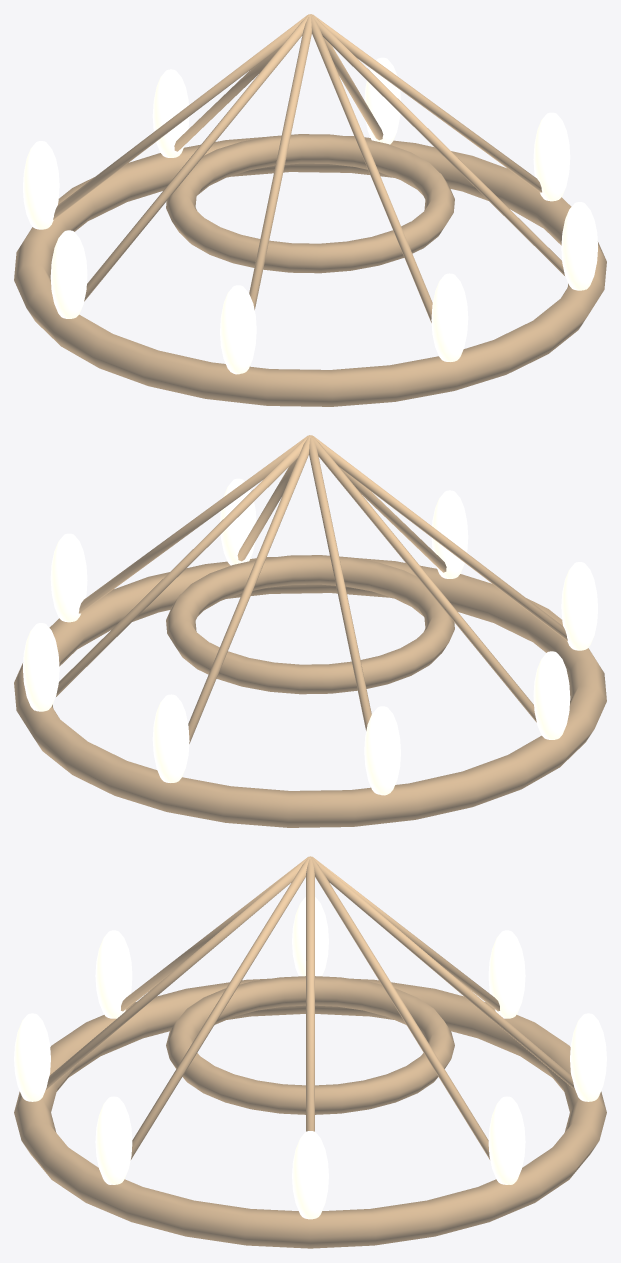
Rendered from castle_detail_chandelier_cursed.glb.
3 renders of one model, top to bottom at view 1: azimuth 30°, elevation 25°; view 2: azimuth 150°, elevation 25°; view 3: azimuth 270°, elevation 25°, orthographic.
Visible parts, largest first — view 1: castle_detail_chandelier_cursed_surface; view 2: castle_detail_chandelier_cursed_surface; view 3: castle_detail_chandelier_cursed_surface.
Part boxes in pixels (box(x1,y1,x2,y2)): castle_detail_chandelier_cursed_surface: box(14, 14, 606, 406); castle_detail_chandelier_cursed_surface: box(14, 435, 606, 827); castle_detail_chandelier_cursed_surface: box(14, 856, 606, 1248).
Size of the model in its own units: 3.2 by 1.6 by 3.2.
